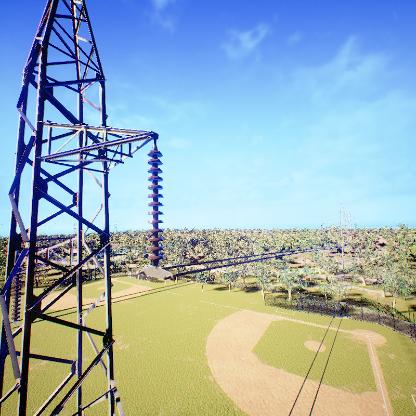insulator: (145, 148, 164, 266), (12, 271, 20, 323)
